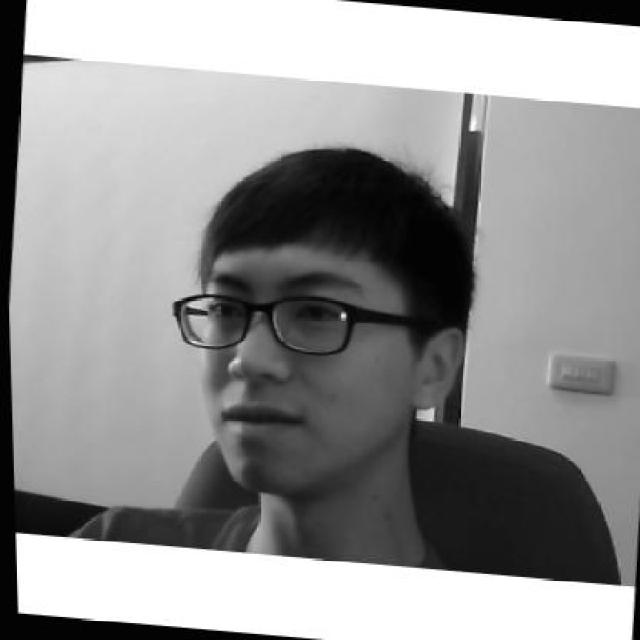attentif: (155, 132, 479, 506)
